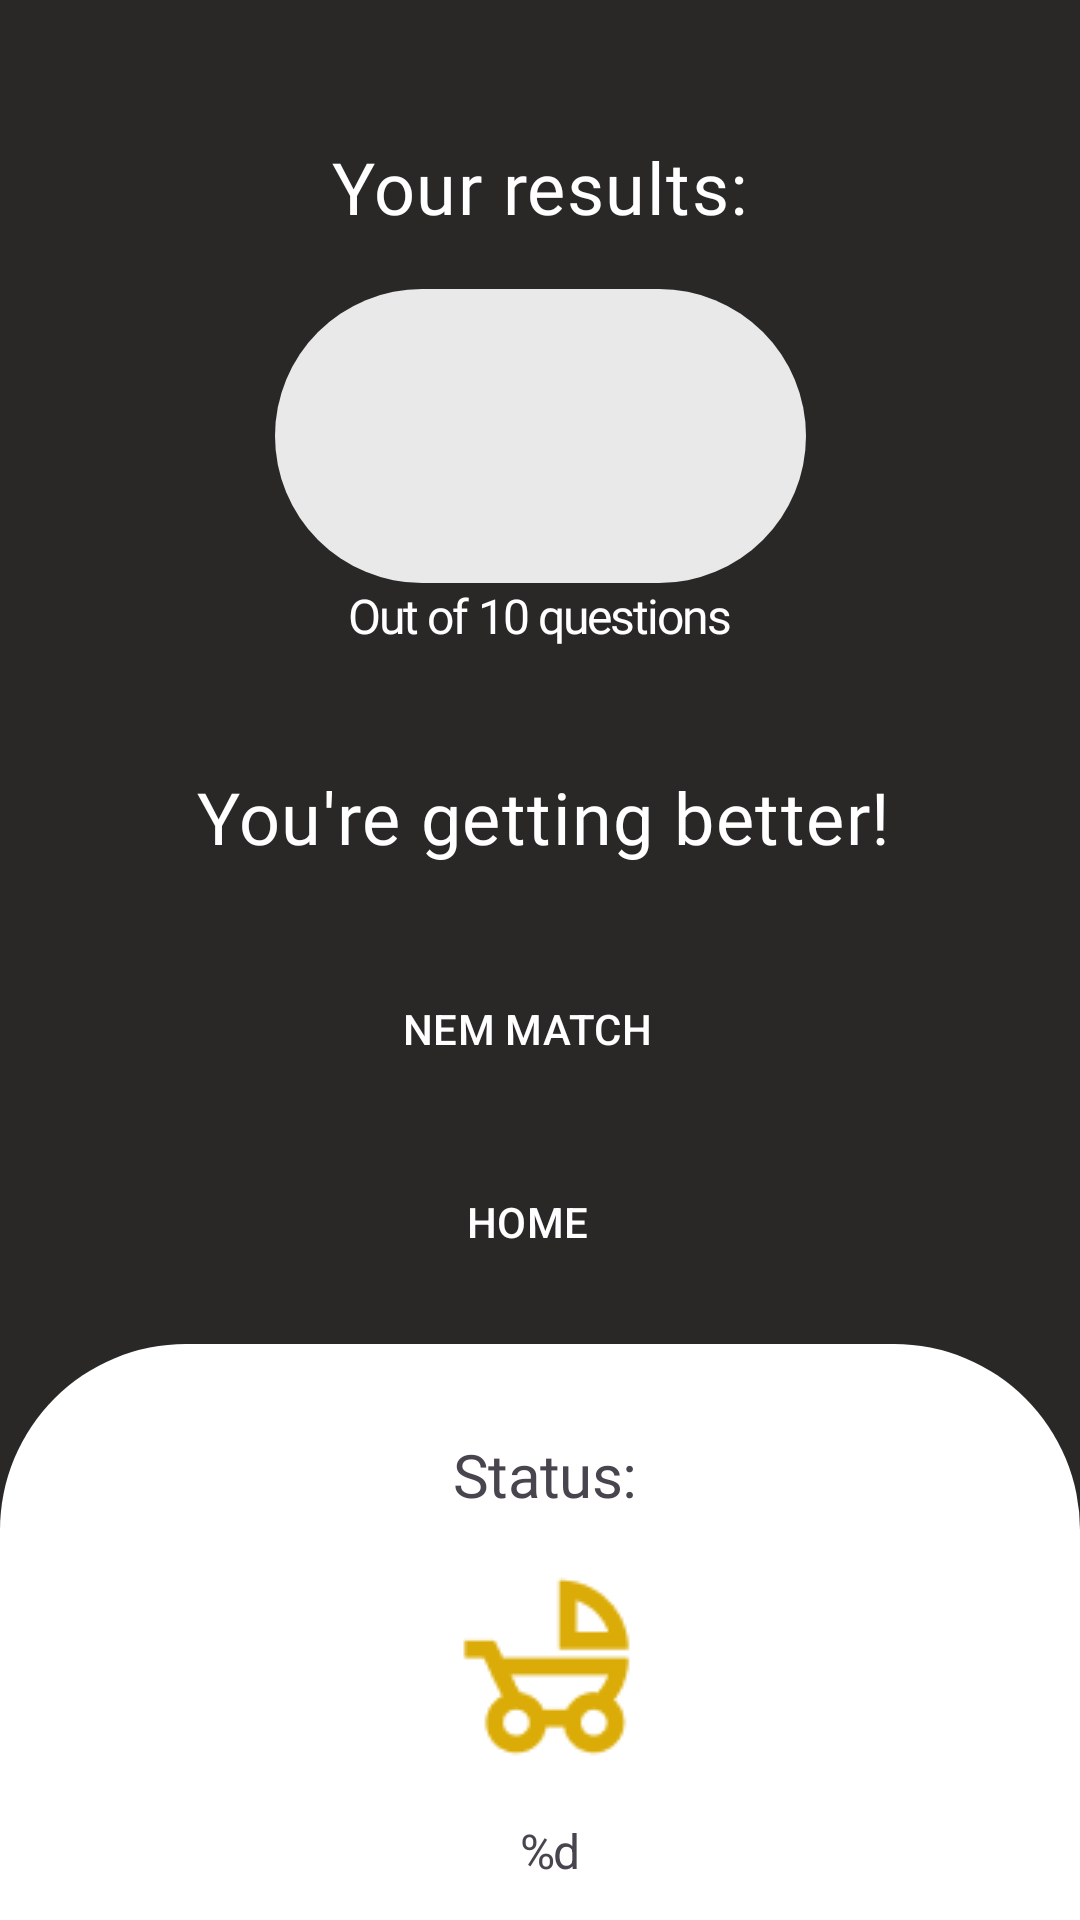

Locate icon controls on the screen. Image size 1080px×1920px, boxes as {"left": x1, "top": y1, "right": x2, "bottom": y2}.
child friendly: {"left": 463, "top": 1578, "right": 630, "bottom": 1755}
